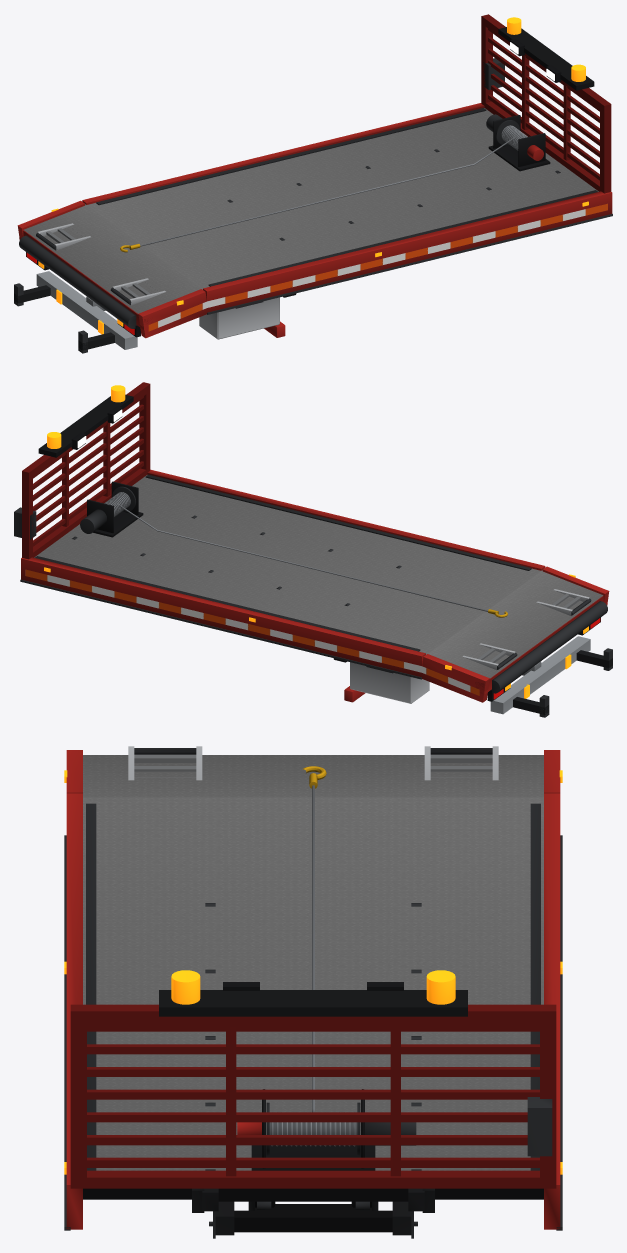
The model's file is tow_bed-hi-v1.glb.
3 views of the same model, one above another, from view 1: azimuth 30°, elevation 25°; view 2: azimuth 150°, elevation 25°; view 3: azimuth 270°, elevation 25° (orthographic). The views are drawn at different scales.
Parts seen in each view (by area): view 1: bed_geo, headboard, wheel_lift_cross_geo, light_bar_geo, toolbox_R_geo, winch_geo, cable_geo, ramp_R_geo, ramp_L_geo, winch_drum_geo; view 2: bed_geo, headboard, wheel_lift_cross_geo, light_bar_geo, toolbox_L_geo, winch_geo, cable_geo, ramp_L_geo, ramp_R_geo, winch_drum_geo; view 3: bed_geo, headboard, light_bar_geo, subframe_geo, tilt_frame_geo, winch_geo, ramp_L_geo, ramp_R_geo, winch_drum_geo, cable_geo.
Part boxes in pixels (x1,y1,x2,y2): bed_geo: (17,103,612,338); headboard: (481,14,611,193); wheel_lift_cross_geo: (14,271,137,353); light_bar_geo: (498,17,594,90); toolbox_R_geo: (199,297,279,339); winch_geo: (486,114,550,171); cable_geo: (140,137,514,246); ramp_R_geo: (110,278,165,305); ramp_L_geo: (36,223,90,250); winch_drum_geo: (496,120,527,150); bed_geo: (20,469,609,702); headboard: (14,382,150,559); wheel_lift_cross_geo: (490,636,612,717); light_bar_geo: (38,385,133,457); toolbox_L_geo: (350,662,429,703); winch_geo: (80,481,143,537); cable_geo: (117,503,487,611); ramp_L_geo: (462,643,517,670); ramp_R_geo: (536,589,591,615); winch_drum_geo: (104,486,135,516); bed_geo: (64,750,562,1230); headboard: (70,1004,556,1188); light_bar_geo: (159,970,467,1016); subframe_geo: (209,1201,417,1238); tilt_frame_geo: (202,903,424,1211); winch_geo: (237,1089,416,1170); ramp_L_geo: (424,746,498,780); ramp_R_geo: (128,746,202,780); winch_drum_geo: (266,1102,360,1155); cable_geo: (312,785,314,1112).
Size of the model in its own units: 5.67 by 1.89 by 2.42.
14 materials, 2 textured.
